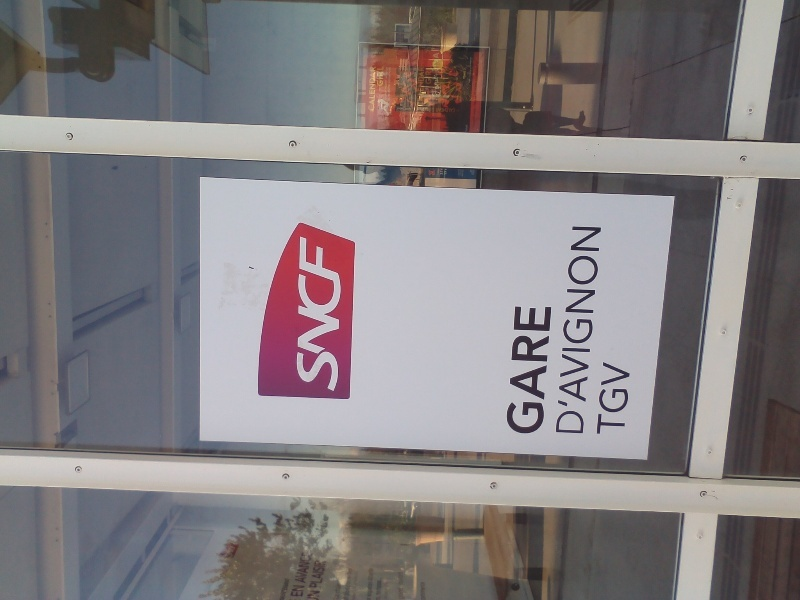text: (577, 225, 592, 436), (305, 233, 320, 393), (321, 233, 336, 393), (529, 305, 544, 435), (593, 225, 602, 436), (516, 305, 528, 435), (337, 233, 346, 393), (545, 305, 555, 435), (609, 361, 624, 437), (572, 225, 576, 436), (299, 233, 304, 393), (417, 67, 432, 107), (625, 361, 632, 437), (385, 67, 400, 102), (602, 361, 608, 437), (338, 568, 352, 600), (370, 568, 384, 599), (389, 67, 400, 102), (355, 571, 368, 600), (305, 547, 315, 584), (433, 74, 448, 97), (369, 64, 376, 113), (433, 53, 448, 73), (386, 582, 400, 599), (314, 559, 320, 590), (321, 559, 327, 590), (422, 582, 432, 600), (229, 543, 240, 559), (377, 66, 384, 86), (377, 579, 384, 599), (293, 585, 304, 597), (348, 570, 352, 600), (309, 590, 320, 600), (426, 70, 432, 84), (436, 108, 448, 113), (401, 570, 404, 586), (440, 170, 448, 176), (286, 579, 288, 600), (303, 547, 304, 584), (401, 588, 404, 600), (449, 108, 456, 113), (289, 579, 290, 600), (429, 170, 432, 177), (433, 170, 436, 177), (444, 171, 448, 176), (399, 570, 400, 586), (399, 588, 400, 600), (305, 585, 306, 597), (463, 70, 464, 81), (465, 70, 466, 81)
